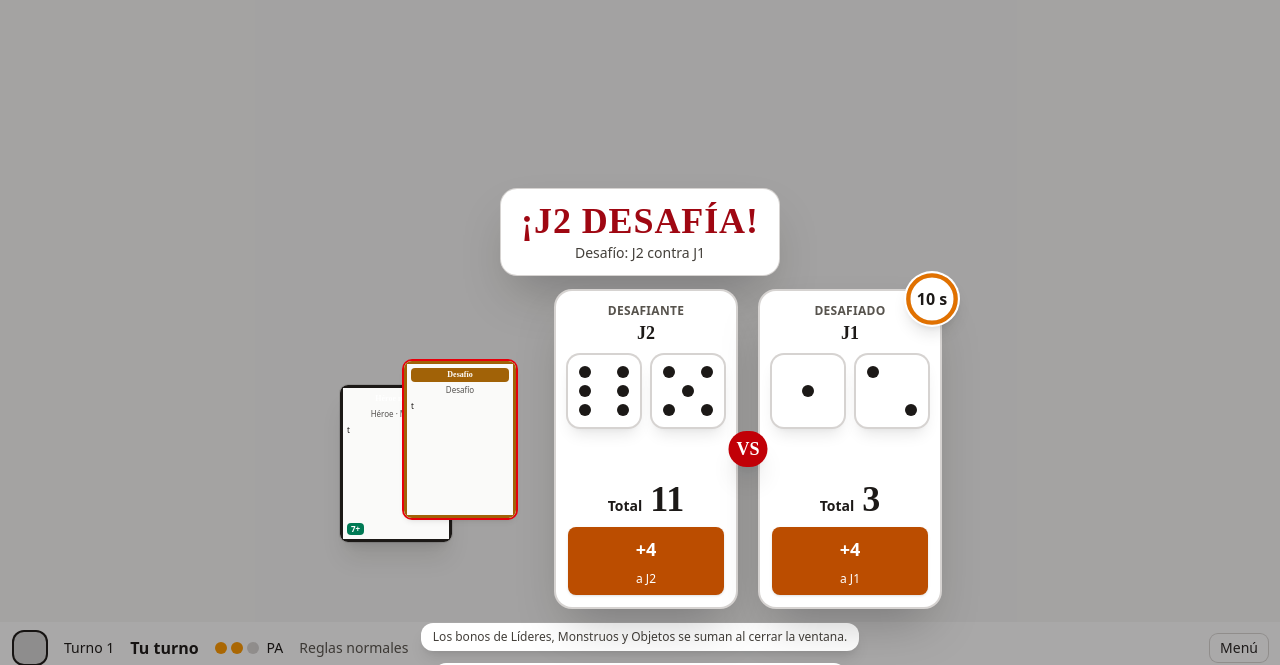
Test case: Escenario central: duelo y Modificadores › muestra a los dos jugadores, sus totales y se actualiza al jugar un Modificador
(page scrolled)
Expected: the heading "¡J2 desafía!" is shown, [521,201,759,241]
// J1 juega +4 sobre su propia tirada: su total sube y aparece el «+4».
Step 1. Click the button "+4 a J1" → (850, 561), box [772,527,928,595]
(page scrolled)
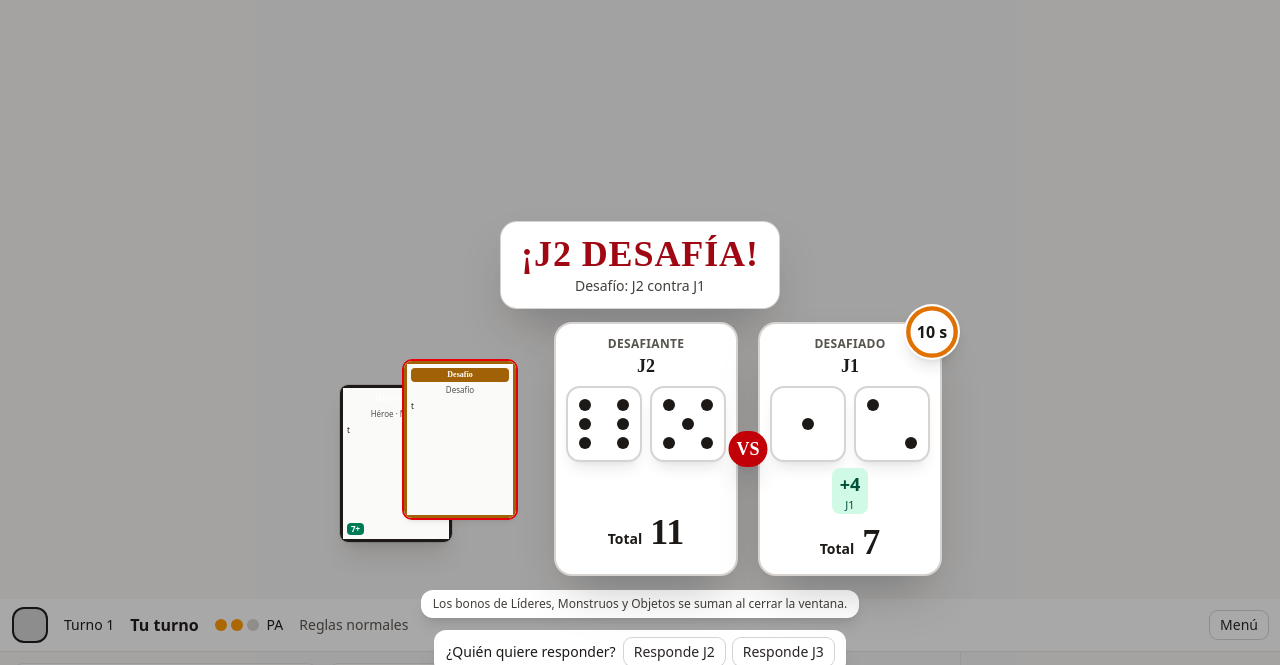
Result: the list item named "+4 de J1" is shown at [832,468,868,514]
